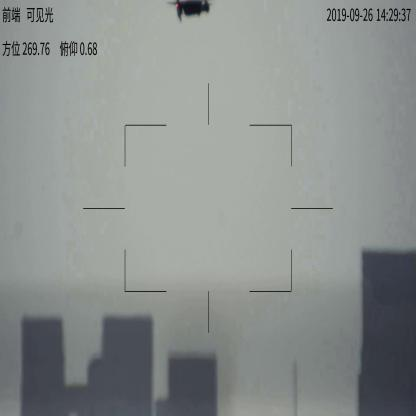uav: (167, 0, 213, 21)
